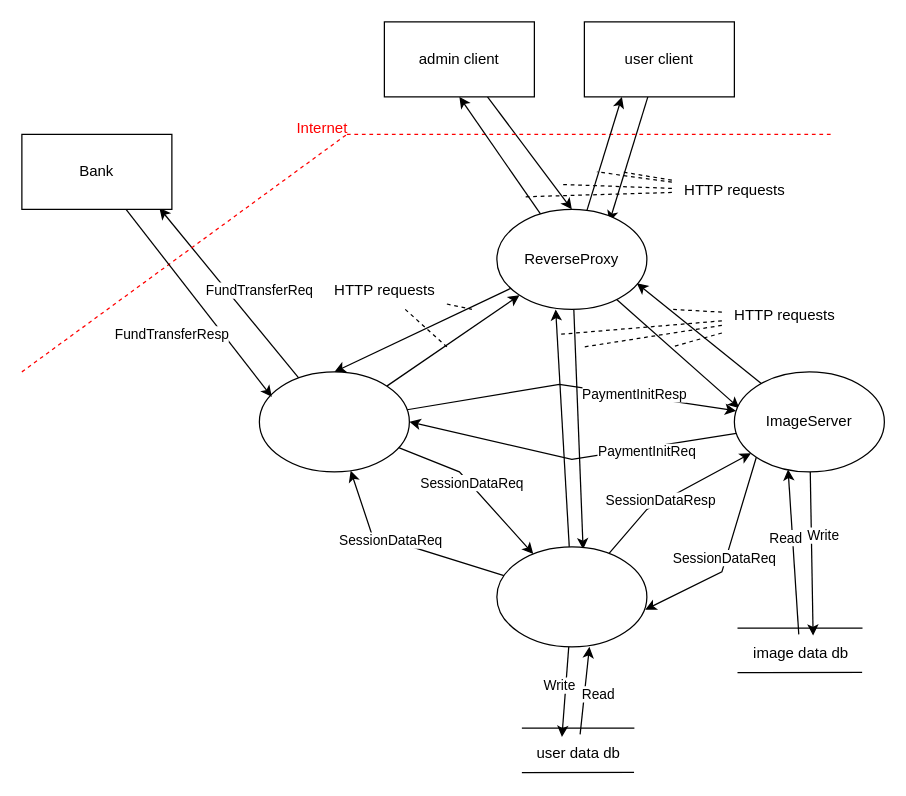
Image size: 906x796. Some labels were removed from this diagram. Here are the shapes that lost their labels. From the top down, the centre of each, then its label:
At pixel 333 421: "PaymentServer".
At pixel 571 596: "AuthServer".
